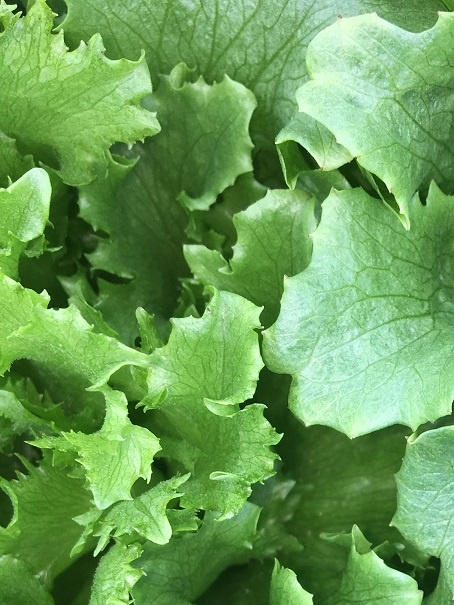tipburn: (314, 159, 333, 176), (332, 9, 350, 25), (399, 216, 414, 234), (433, 5, 448, 21), (278, 269, 293, 284), (256, 325, 271, 339), (303, 229, 318, 243), (404, 432, 418, 446), (350, 151, 364, 164)
